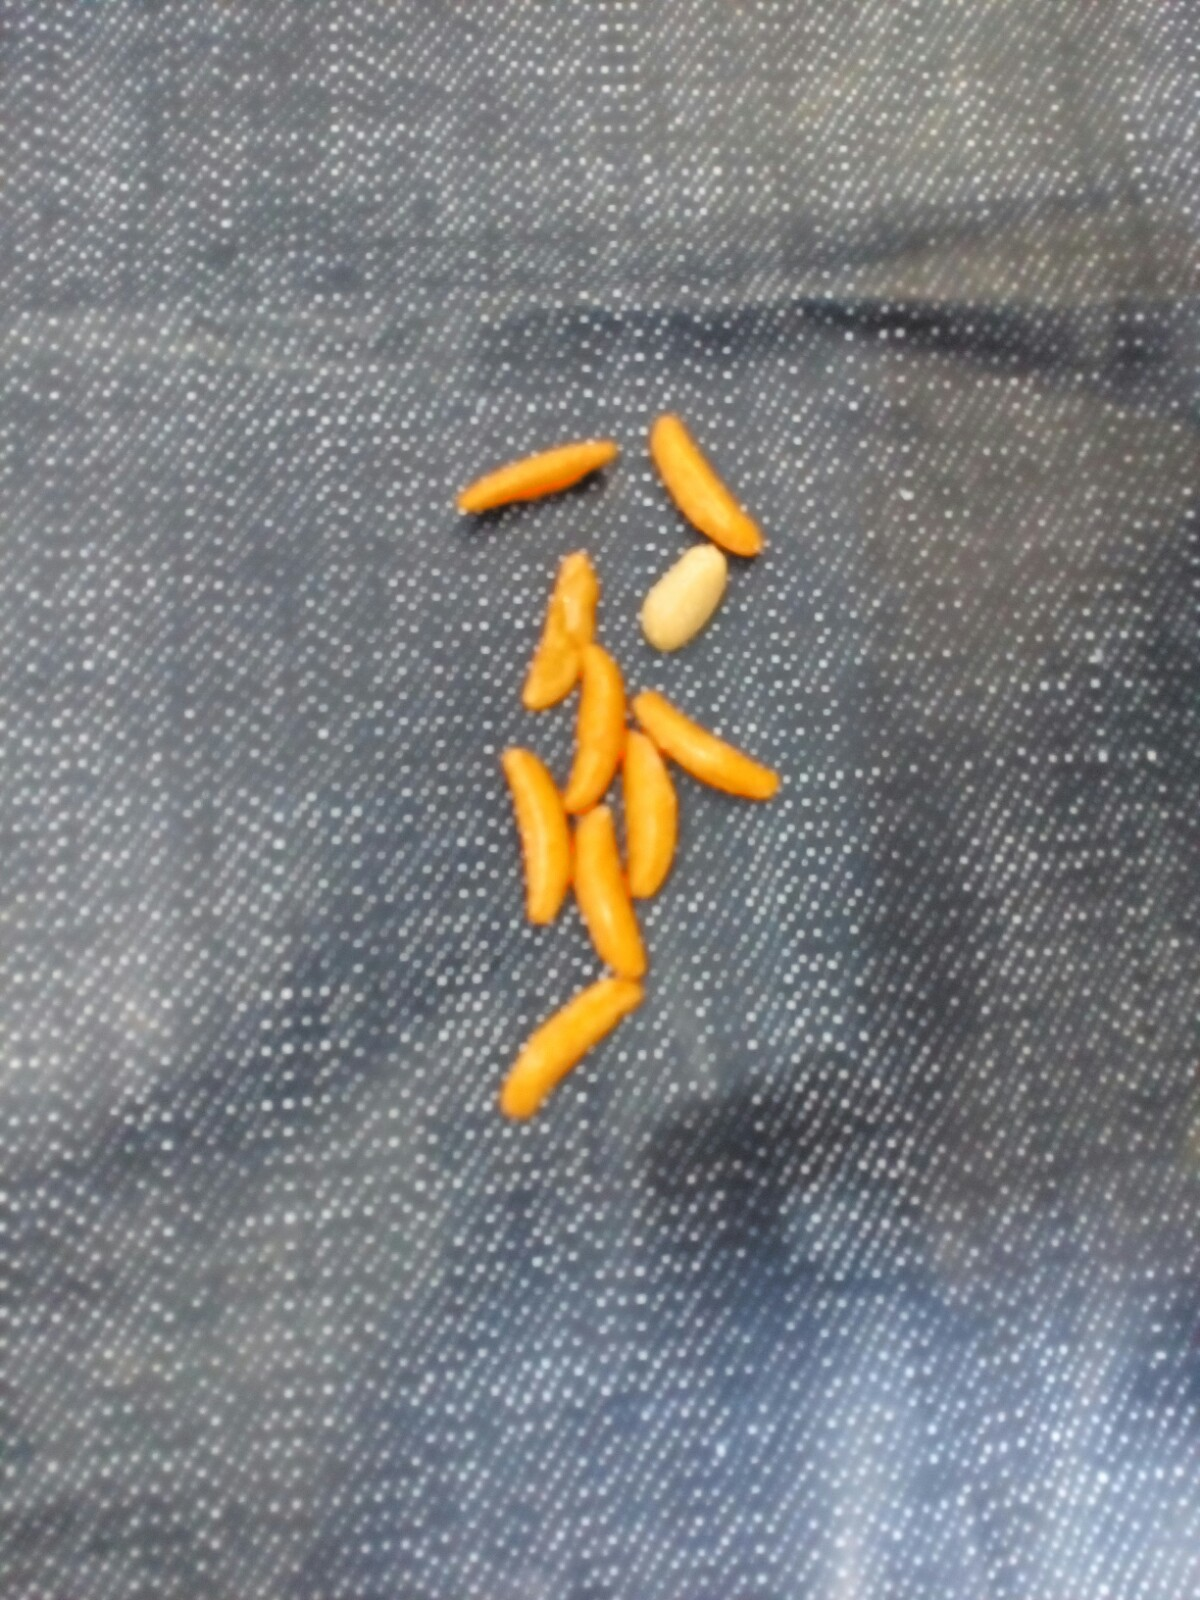peanut: (633, 538, 734, 655)
